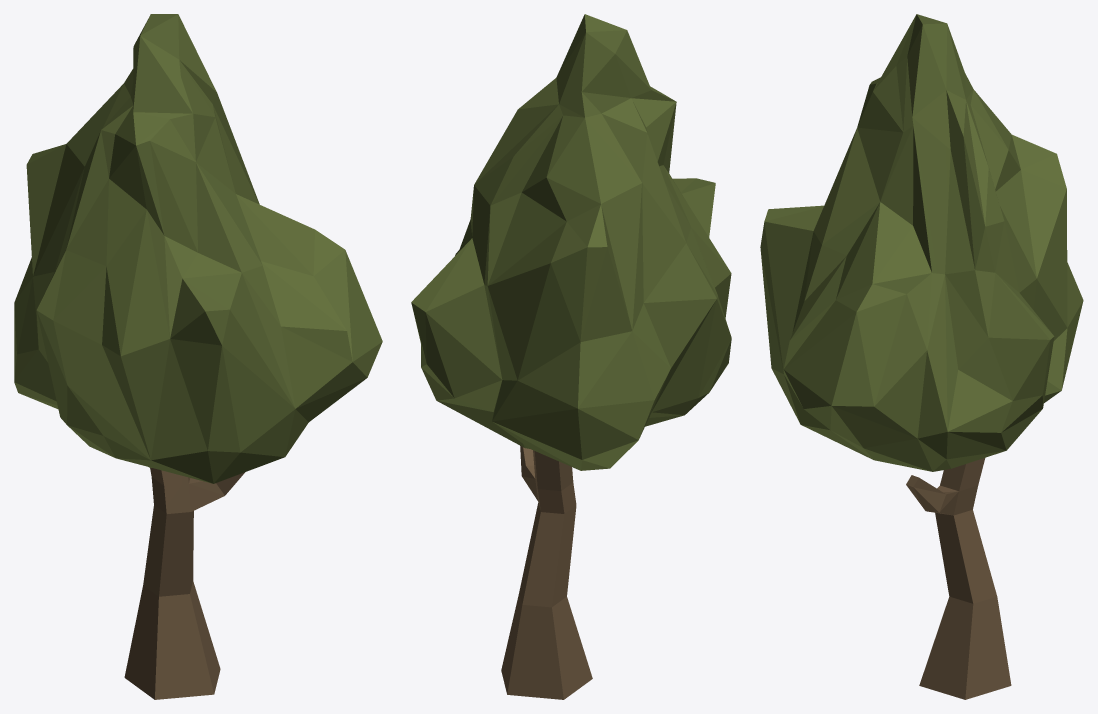
Rendered from Env_Tree_02.glb.
3 renders of one model, left to right at view 1: azimuth 30°, elevation 25°; view 2: azimuth 150°, elevation 25°; view 3: azimuth 270°, elevation 25°, orthographic. The views are drawn at different scales.
Visible parts, largest first — view 1: SM_Env_Tree_02; view 2: SM_Env_Tree_02; view 3: SM_Env_Tree_02.
Part boxes in pixels (x1,y1,x2,y2): SM_Env_Tree_02: (14, 14, 382, 699); SM_Env_Tree_02: (411, 14, 731, 699); SM_Env_Tree_02: (760, 14, 1083, 699).
Size of the model in its own units: 1.9 by 4.21 by 1.91.
Materials: 1 (1 with a texture image).
